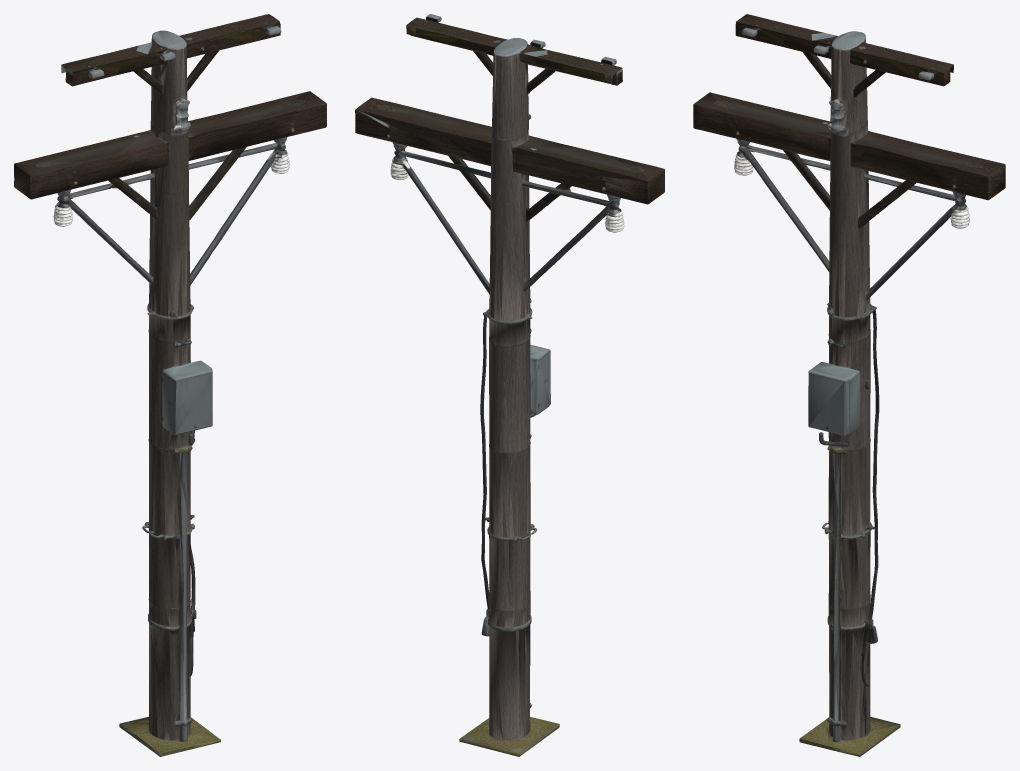
Rendered from poste-duplo-t-concreto__01a163bd.glb.
The picture shows the model from 3 angles, left to right: view 1: azimuth 30°, elevation 25°; view 2: azimuth 150°, elevation 25°; view 3: azimuth 330°, elevation 25°; orthographic projection.
Parts seen in each view (by area): view 1: poste-duplo-t-concreto__01a163bd; view 2: poste-duplo-t-concreto__01a163bd; view 3: poste-duplo-t-concreto__01a163bd.
Boxes of the visible parts, x1,y1,x2,y2 form: poste-duplo-t-concreto__01a163bd: [14, 14, 326, 756]; poste-duplo-t-concreto__01a163bd: [355, 14, 664, 756]; poste-duplo-t-concreto__01a163bd: [693, 14, 1005, 756].
Size of the model in its own units: 4.91 by 11 by 1.33.
1 material, 1 textured.
